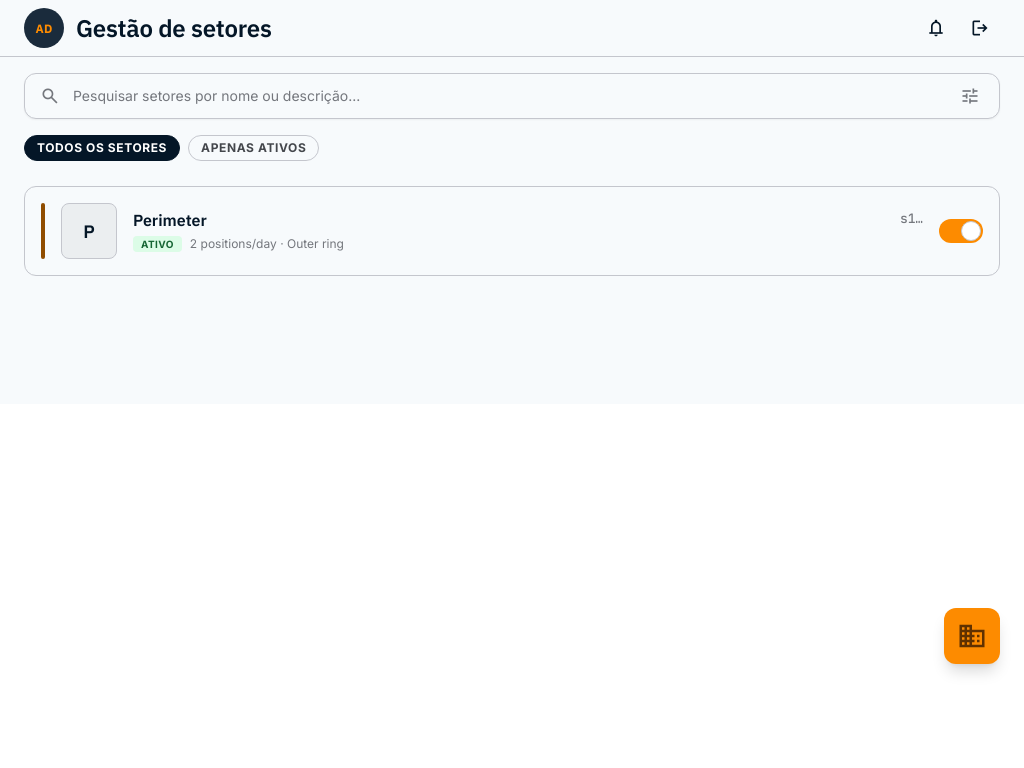
Test case: SectorsPage › validates mandatory name before create submit
Expected: the button "Perimeter" is shown, [133, 210, 207, 232]
Click the button named "adicionar setor": (972, 636) [944, 608, 1000, 664]
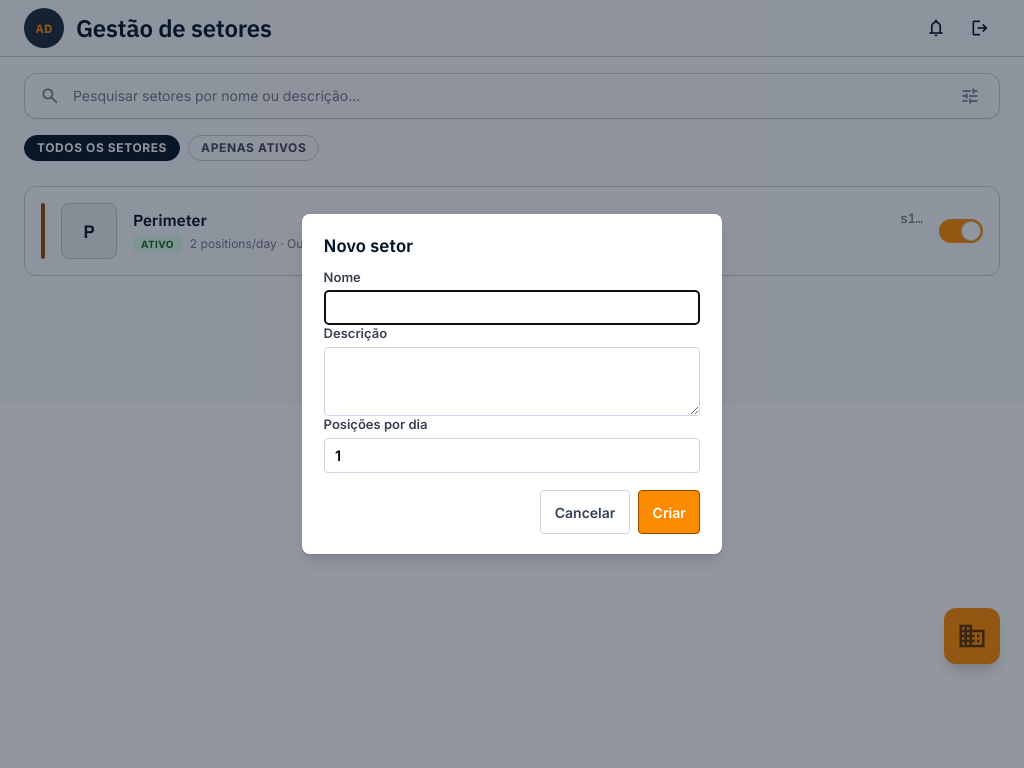
Click the button "Criar": (669, 512) [638, 490, 700, 534]
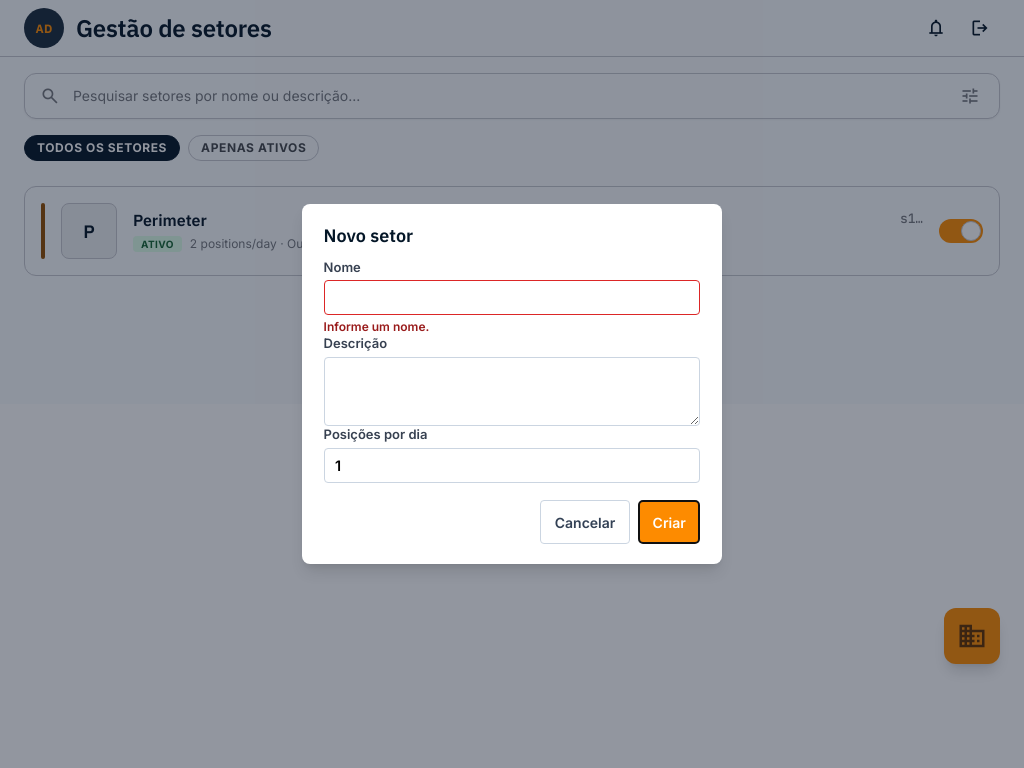
Expected: the text "Informe um nome." is shown, [324, 319, 429, 334]
